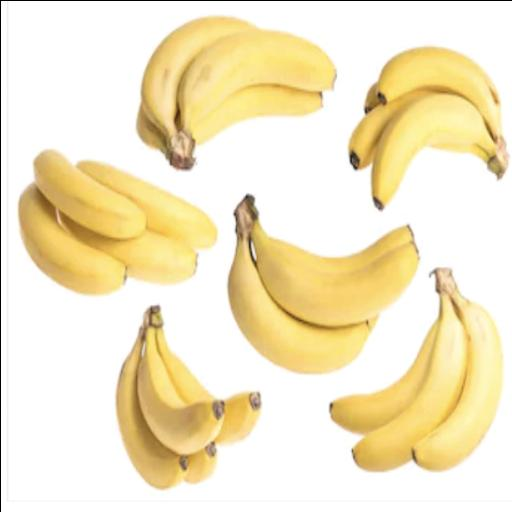banana: (227, 198, 369, 373), (352, 293, 466, 471), (246, 209, 417, 326), (412, 270, 501, 470), (141, 17, 253, 169), (177, 31, 335, 132), (372, 95, 506, 209), (330, 319, 437, 434), (76, 162, 215, 249), (18, 183, 125, 295), (377, 48, 501, 141), (116, 328, 186, 489), (137, 327, 223, 454), (57, 213, 195, 285), (33, 151, 145, 239), (254, 222, 412, 274), (188, 85, 321, 144), (347, 90, 431, 169), (150, 308, 212, 404), (215, 392, 260, 444), (136, 105, 169, 161), (184, 443, 216, 483), (431, 144, 487, 162), (363, 82, 379, 114)
